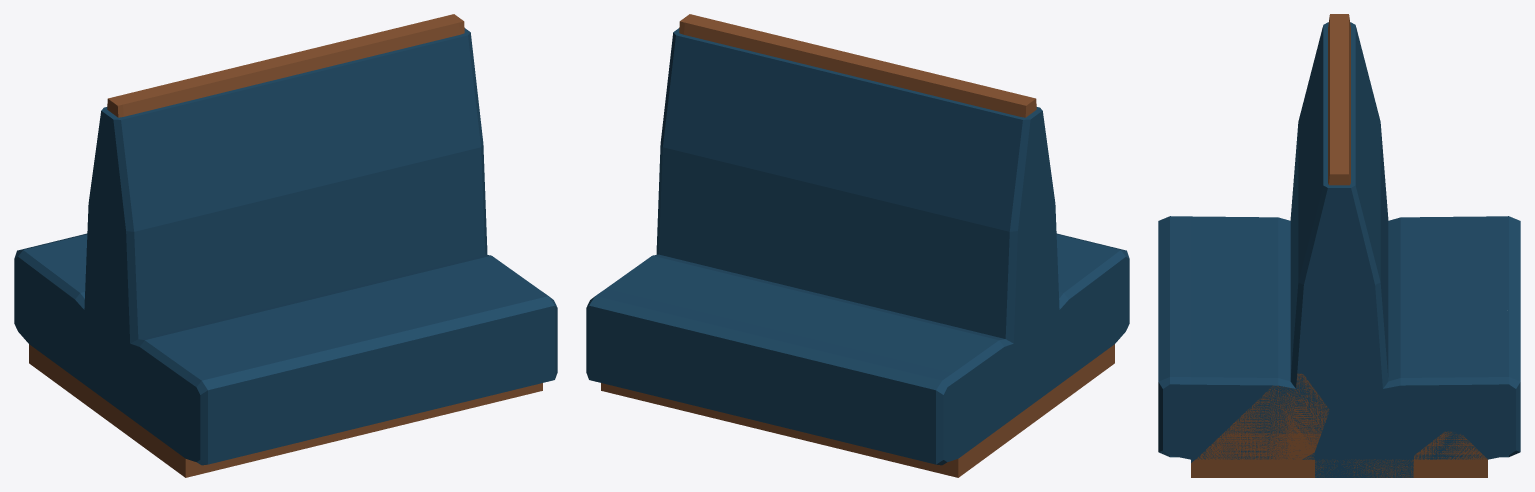
Rendered from boothseats.fbx.
3 views of the same model, side by side, from view 1: azimuth 30°, elevation 25°; view 2: azimuth 150°, elevation 25°; view 3: azimuth 270°, elevation 25° (orthographic). The views are drawn at different scales.
Visible parts, largest first — view 1: Cube, Cube_cell.005, Cube_cell.015, Cube_cell.001, Cube_cell.007, Cube_cell.019, Cube_cell.009, Cube_cell.002, Cube_cell.006, Cube_cell, Cube_cell.003, Cube_cell.008; view 2: Cube, Cube_cell.003, Cube_cell.004, Cube_cell.011, Cube_cell.012, Cube_cell.013, Cube_cell.018, Cube_cell.007, Cube_cell.002, Cube_cell.001; view 3: Cube, Cube_cell.012, Cube_cell.011, Cube_cell.008, Cube_cell.015, Cube_cell.004, Cube_cell, Cube_cell.019, Cube_cell.003, Cube_cell.016, Cube_cell.002, Cube_cell.007 (+6 smaller).
Part boxes in pixels (x1=…): Cube: x1=14, y1=35, x2=557, y2=477; Cube_cell.005: x1=171, y1=112, x2=396, y2=273; Cube_cell.015: x1=182, y1=222, x2=429, y2=330; Cube_cell.001: x1=112, y1=77, x2=216, y2=272; Cube_cell.007: x1=197, y1=35, x2=390, y2=152; Cube_cell.019: x1=388, y1=83, x2=484, y2=259; Cube_cell.009: x1=129, y1=265, x2=260, y2=477; Cube_cell.002: x1=367, y1=14, x2=476, y2=102; Cube_cell.006: x1=258, y1=321, x2=471, y2=457; Cube_cell: x1=455, y1=301, x2=557, y2=396; Cube_cell.003: x1=17, y1=233, x2=87, y2=285; Cube_cell.008: x1=425, y1=243, x2=539, y2=407; Cube: x1=587, y1=21, x2=1129, y2=477; Cube_cell.003: x1=799, y1=333, x2=985, y2=464; Cube_cell.004: x1=719, y1=282, x2=912, y2=441; Cube_cell.011: x1=586, y1=272, x2=742, y2=363; Cube_cell.012: x1=629, y1=172, x2=764, y2=299; Cube_cell.013: x1=586, y1=339, x2=723, y2=418; Cube_cell.018: x1=890, y1=271, x2=1007, y2=352; Cube_cell.007: x1=765, y1=35, x2=946, y2=97; Cube_cell.002: x1=673, y1=14, x2=773, y2=56; Cube_cell.001: x1=938, y1=77, x2=1056, y2=243; Cube: x1=1158, y1=14, x2=1520, y2=477; Cube_cell.012: x1=1304, y1=270, x2=1444, y2=454; Cube_cell.011: x1=1444, y1=310, x2=1520, y2=430; Cube_cell.008: x1=1191, y1=348, x2=1329, y2=477; Cube_cell.015: x1=1202, y1=197, x2=1392, y2=349; Cube_cell.004: x1=1397, y1=257, x2=1520, y2=326; Cube_cell: x1=1158, y1=377, x2=1273, y2=462; Cube_cell.019: x1=1291, y1=189, x2=1376, y2=373; Cube_cell.003: x1=1434, y1=216, x2=1520, y2=283; Cube_cell.016: x1=1315, y1=411, x2=1413, y2=477; Cube_cell.002: x1=1312, y1=134, x2=1367, y2=255; Cube_cell.007: x1=1311, y1=55, x2=1355, y2=192.
Bounding box in the file's own units: 172 × 146 × 159.
